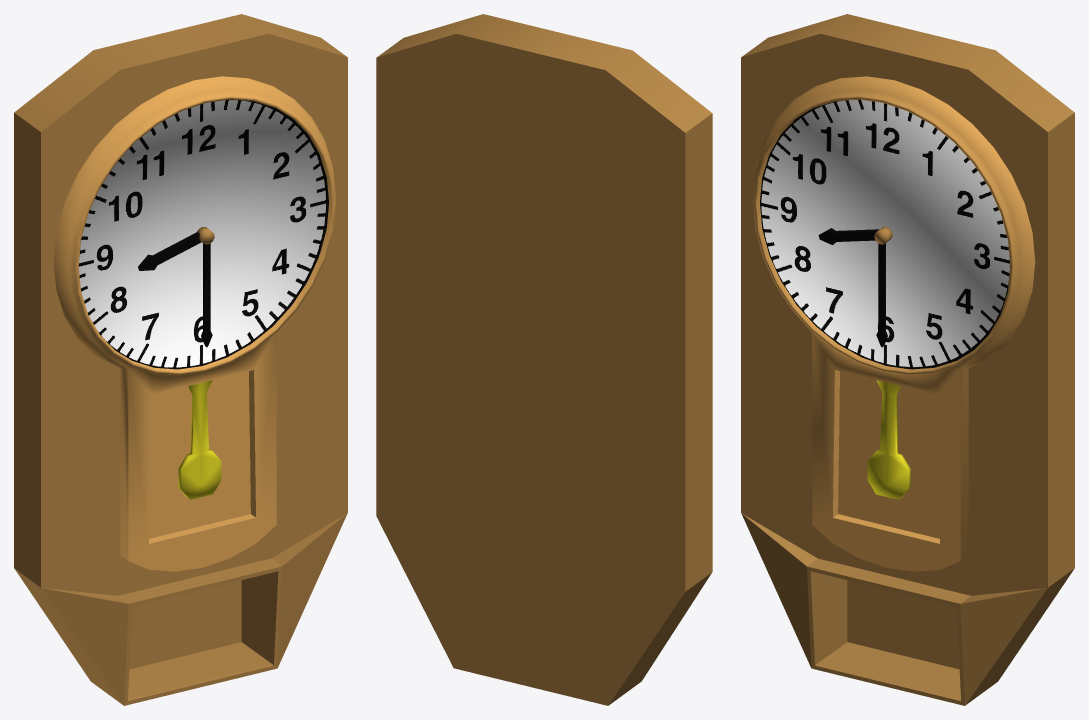
Rendered from clock_opened_solved.glb.
3 views of the same model, side by side, from view 1: azimuth 30°, elevation 25°; view 2: azimuth 150°, elevation 25°; view 3: azimuth 330°, elevation 25° (orthographic).
Visible parts, largest first — view 1: full_clock_noarrows_opened_solved; view 2: full_clock_noarrows_opened_solved; view 3: full_clock_noarrows_opened_solved.
Part boxes in pixels (x1,y1,x2,y2): full_clock_noarrows_opened_solved: (14, 14, 347, 705); full_clock_noarrows_opened_solved: (376, 14, 712, 705); full_clock_noarrows_opened_solved: (741, 14, 1074, 705).
Size of the model in its own units: 0.451 by 0.8858 by 0.1039.
6 materials, 1 textured.
